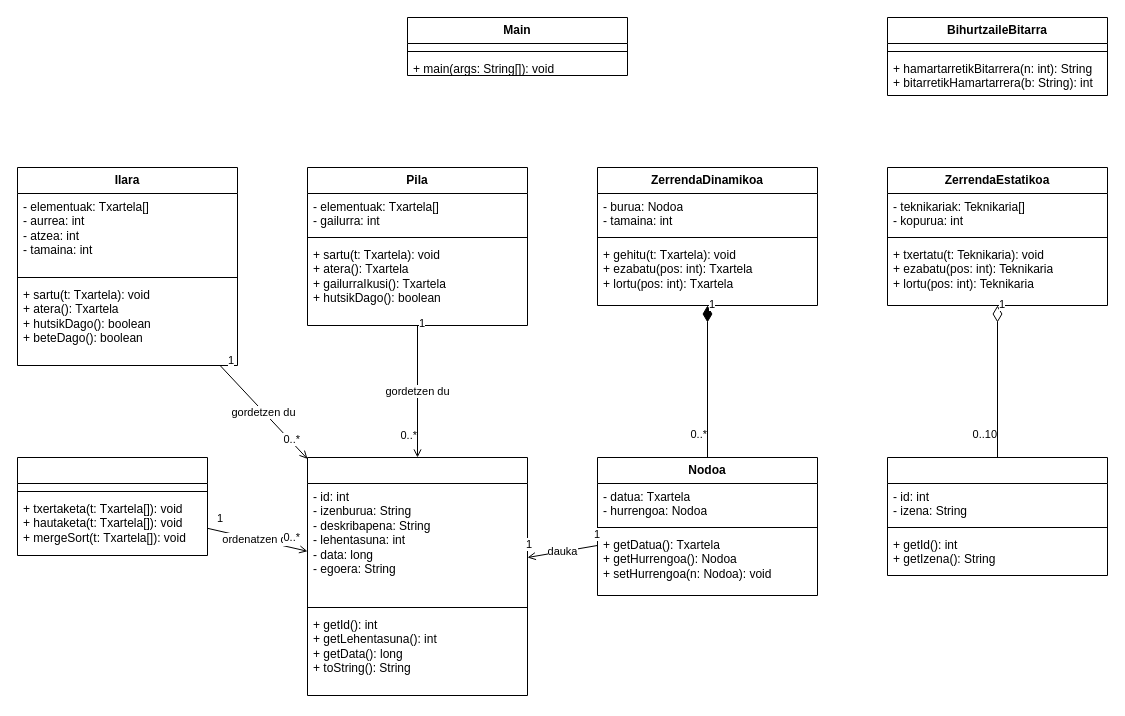
Image size: 1125x716. Some labels were removed from this diagram. Here are the shapes that lost their labels. From the top down, the box of each, then its label:
(16, 456, 208, 556): Ordenatzailea
(886, 456, 1108, 576): Teknikaria
(306, 456, 528, 696): Txartela
